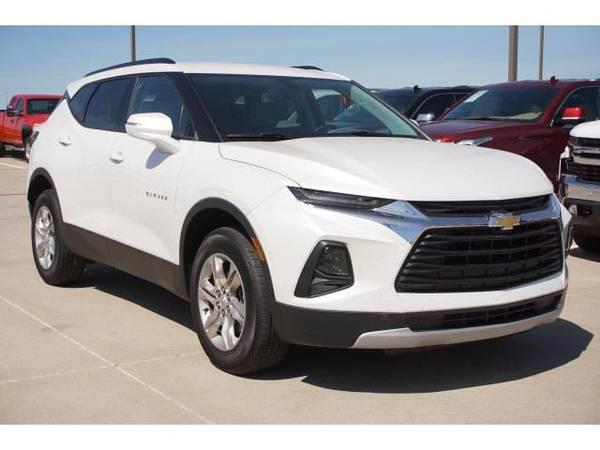Front_Bumper: (245, 187, 569, 347)
Front_Fender: (176, 143, 296, 292)
Front_Right_Door: (108, 134, 193, 293)
Front_Right_Window: (122, 76, 203, 147)
Front_Windshield: (193, 76, 435, 143)
Grille: (395, 191, 567, 293)
Hood: (217, 138, 551, 199)
Rear_Fender: (26, 107, 77, 192)
Rear_Right_Door: (51, 120, 125, 268)
Rear_Right_Window: (68, 76, 133, 133)
Right_Headlight: (293, 187, 409, 212)
Roof: (60, 64, 351, 141)
Wheel: (188, 225, 273, 374), (29, 189, 87, 289)
